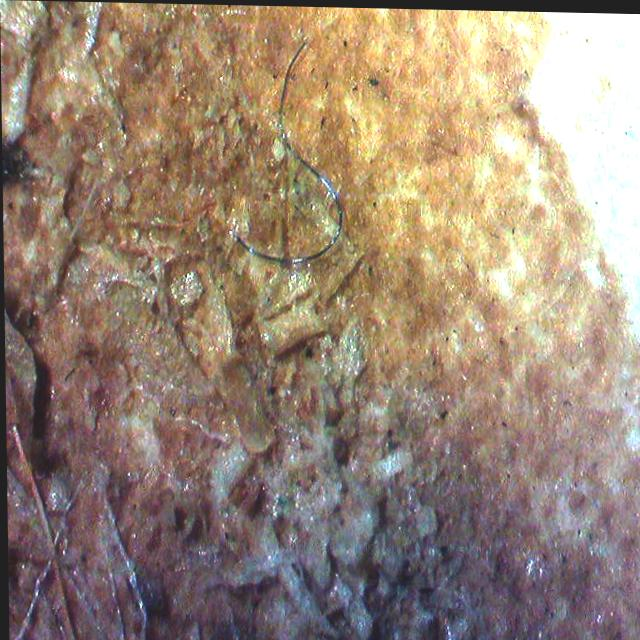microplastic: (237, 42, 343, 265)
